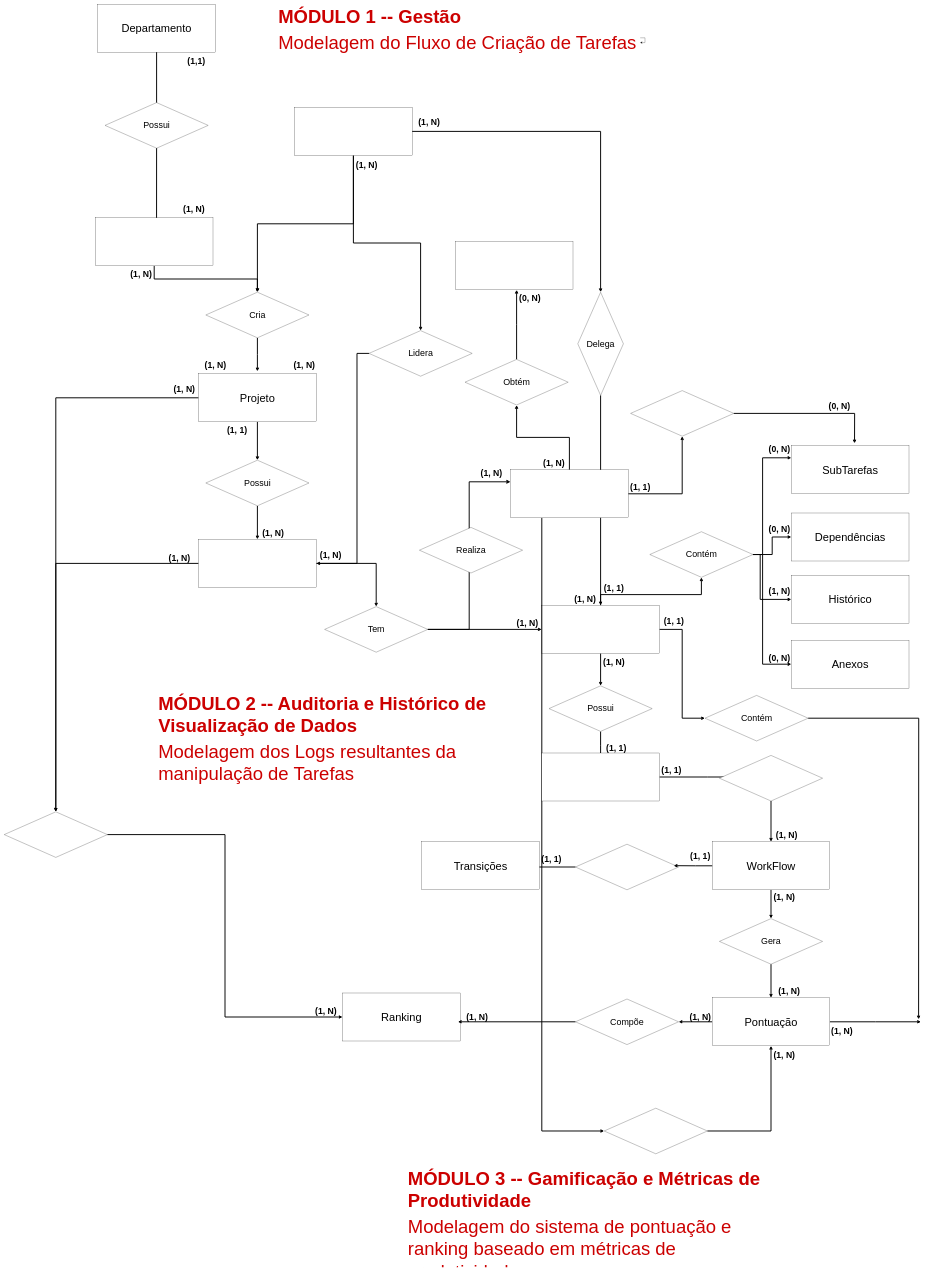
Some shapes in this 928 by 1285 pixel diagram are drawn without their labels. Here are the shapes that lost their labels. From the top down, the centre of each, then its label:
At (x=353, y=131): "Gestor".
At (x=154, y=242): "Administrador".
At (x=514, y=266): "Conquista".
At (x=682, y=413): "Faz".
At (x=569, y=494): "Colaborador".
At (x=257, y=563): "Equipe".
At (x=600, y=629): "Tarefas".
At (x=600, y=777): "Status De Tarefa".
At (x=771, y=778): "Atualiza".
At (x=55, y=834): "Participa".
At (x=627, y=867): "Diverge Em".
At (x=655, y=1131): "Ganha".
